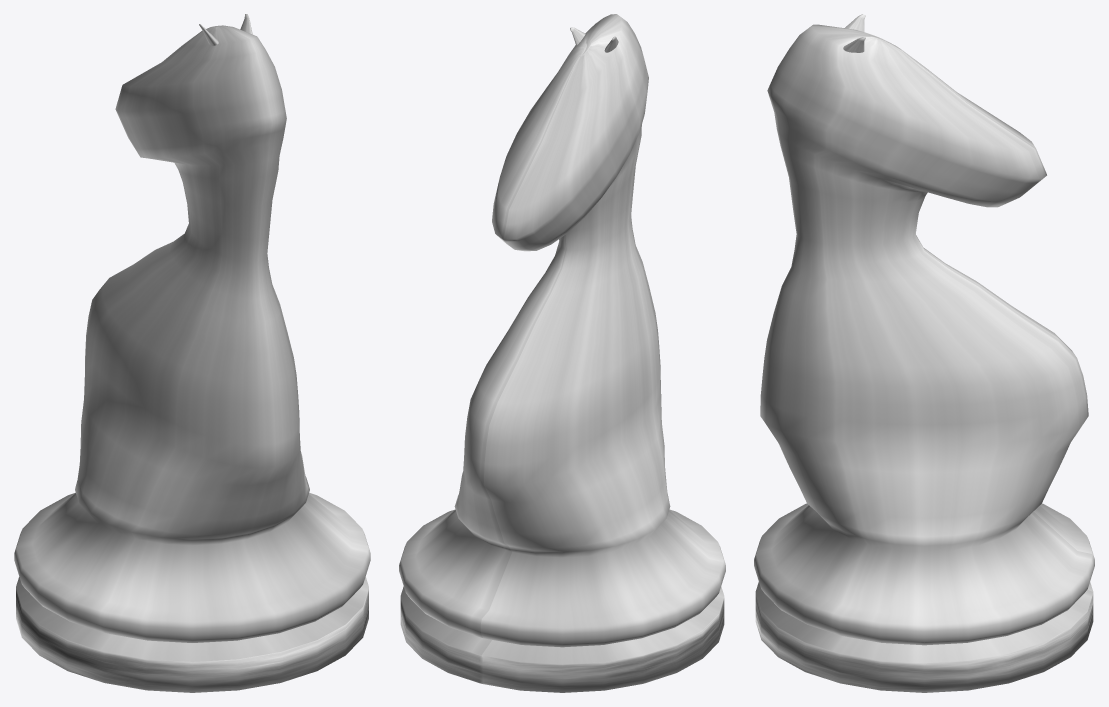
The model's file is white_knight.obj.
3 renders of one model, left to right at view 1: azimuth 30°, elevation 25°; view 2: azimuth 150°, elevation 25°; view 3: azimuth 270°, elevation 25°, orthographic. The views are drawn at different scales.
Parts seen in each view (by area): view 1: Knight_Cylinder.021; view 2: Knight_Cylinder.021; view 3: Knight_Cylinder.021.
Boxes of the visible parts, x1=… form: Knight_Cylinder.021: x1=14, y1=14, x2=370, y2=692; Knight_Cylinder.021: x1=399, y1=14, x2=725, y2=692; Knight_Cylinder.021: x1=754, y1=14, x2=1094, y2=692.
Bounding box in the file's own units: 1.51 × 2.92 × 1.51.
1 material, 1 textured.
